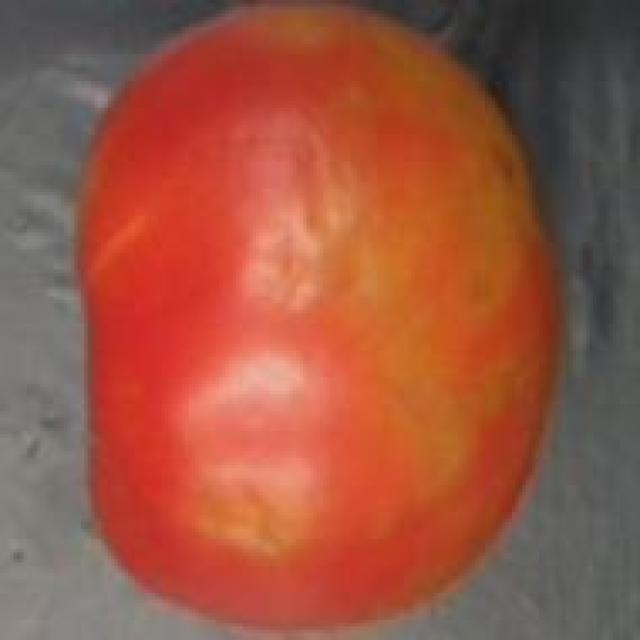overripe tomato: (64, 3, 576, 640)
